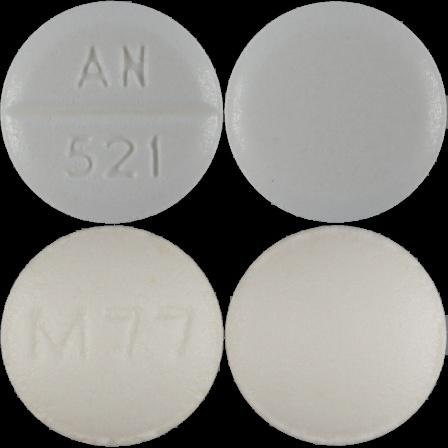61919-008: (0, 0, 224, 224)
